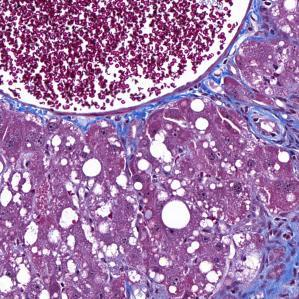fibrosis: (213, 83, 299, 150), (243, 217, 299, 299)
